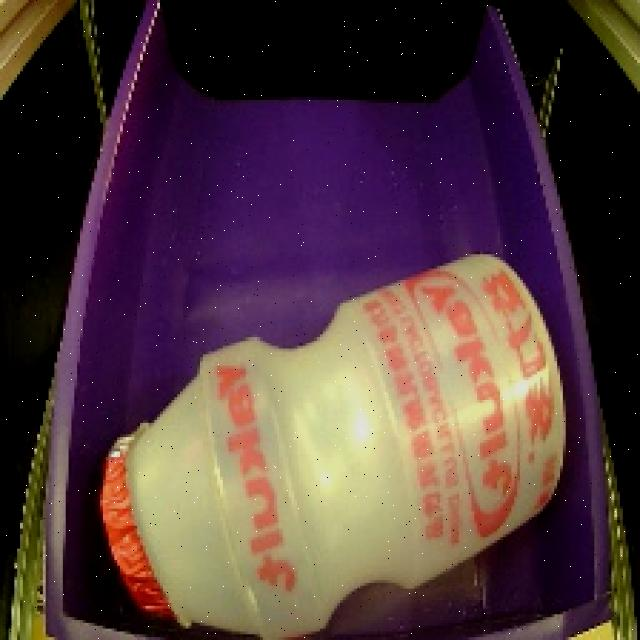plastic: (91, 235, 588, 640)
